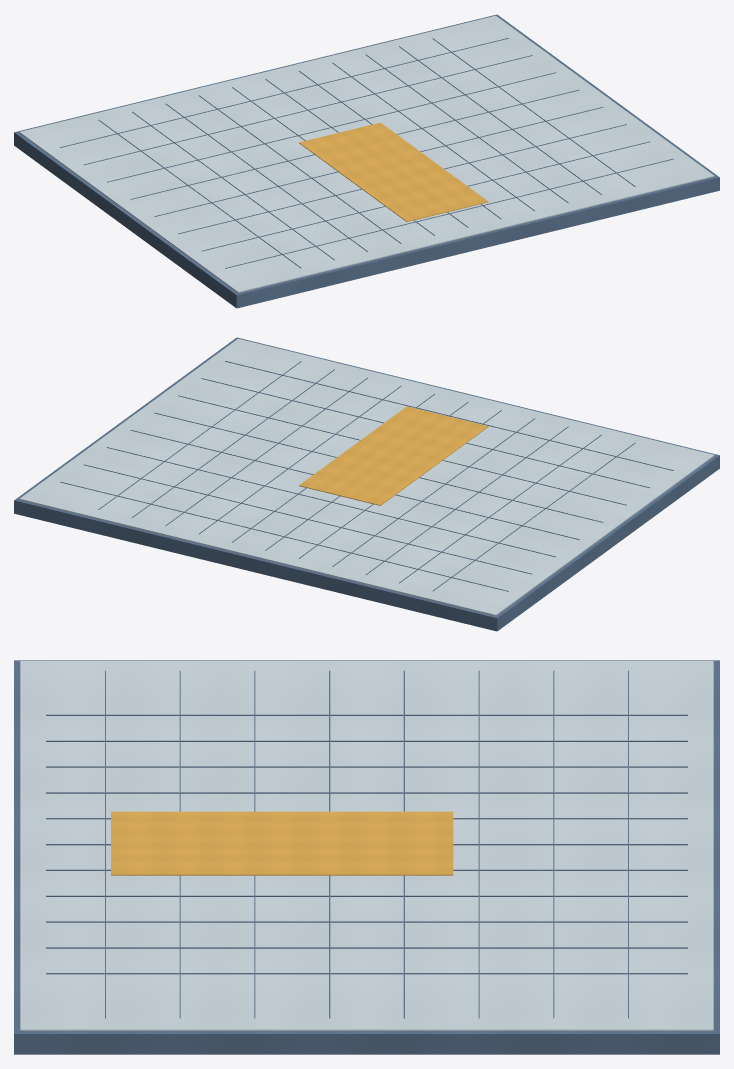
Rendered from atlas100-s056-a07.glb.
3 views of the same model, one above another, from view 1: azimuth 30°, elevation 25°; view 2: azimuth 150°, elevation 25°; view 3: azimuth 270°, elevation 25° (orthographic). The views are drawn at different scales.
Parts seen in each view (by area): view 1: atlas100-s056-a07:part-001, atlas100-s056-a07:part-000, atlas100-s056-a07:part-021, atlas100-s056-a07:part-015, atlas100-s056-a07:part-014, atlas100-s056-a07:part-013, atlas100-s056-a07:part-020, atlas100-s056-a07:part-017, atlas100-s056-a07:part-019, atlas100-s056-a07:part-016, atlas100-s056-a07:part-018; view 2: atlas100-s056-a07:part-001, atlas100-s056-a07:part-000, atlas100-s056-a07:part-021, atlas100-s056-a07:part-014, atlas100-s056-a07:part-013, atlas100-s056-a07:part-020, atlas100-s056-a07:part-015, atlas100-s056-a07:part-016, atlas100-s056-a07:part-019, atlas100-s056-a07:part-018, atlas100-s056-a07:part-017; view 3: atlas100-s056-a07:part-001, atlas100-s056-a07:part-000, atlas100-s056-a07:part-021, atlas100-s056-a07:part-002, atlas100-s056-a07:part-003, atlas100-s056-a07:part-004, atlas100-s056-a07:part-005, atlas100-s056-a07:part-009, atlas100-s056-a07:part-010, atlas100-s056-a07:part-011, atlas100-s056-a07:part-012, atlas100-s056-a07:part-014 (+1 smaller).
Part boxes in pixels (x1,y1,x2,y2): atlas100-s056-a07:part-001: [19, 15, 714, 292]; atlas100-s056-a07:part-000: [14, 14, 719, 308]; atlas100-s056-a07:part-021: [299, 122, 488, 221]; atlas100-s056-a07:part-015: [107, 72, 555, 182]; atlas100-s056-a07:part-014: [84, 55, 532, 164]; atlas100-s056-a07:part-013: [60, 38, 508, 147]; atlas100-s056-a07:part-020: [225, 158, 673, 268]; atlas100-s056-a07:part-017: [154, 107, 603, 216]; atlas100-s056-a07:part-019: [201, 141, 650, 251]; atlas100-s056-a07:part-016: [130, 89, 579, 199]; atlas100-s056-a07:part-018: [178, 124, 626, 234]; atlas100-s056-a07:part-001: [19, 338, 714, 615]; atlas100-s056-a07:part-000: [14, 337, 719, 631]; atlas100-s056-a07:part-021: [299, 406, 488, 505]; atlas100-s056-a07:part-014: [83, 464, 532, 574]; atlas100-s056-a07:part-013: [60, 481, 508, 591]; atlas100-s056-a07:part-020: [225, 361, 673, 470]; atlas100-s056-a07:part-015: [107, 447, 555, 557]; atlas100-s056-a07:part-016: [130, 430, 579, 539]; atlas100-s056-a07:part-019: [201, 378, 649, 487]; atlas100-s056-a07:part-018: [178, 395, 626, 505]; atlas100-s056-a07:part-017: [154, 412, 603, 522]; atlas100-s056-a07:part-001: [20, 661, 713, 1030]; atlas100-s056-a07:part-000: [14, 660, 719, 1054]; atlas100-s056-a07:part-021: [111, 811, 453, 875]; atlas100-s056-a07:part-002: [46, 714, 687, 715]; atlas100-s056-a07:part-003: [46, 740, 687, 741]; atlas100-s056-a07:part-004: [46, 766, 687, 767]; atlas100-s056-a07:part-005: [46, 792, 687, 793]; atlas100-s056-a07:part-009: [46, 895, 687, 896]; atlas100-s056-a07:part-010: [46, 921, 687, 922]; atlas100-s056-a07:part-011: [46, 947, 687, 948]; atlas100-s056-a07:part-012: [46, 973, 687, 974]; atlas100-s056-a07:part-014: [553, 670, 554, 1018].
Bounding box in the file's own units: 13.02 × 0.404 × 10.4.
Materials: 3 (3 with a texture image).
